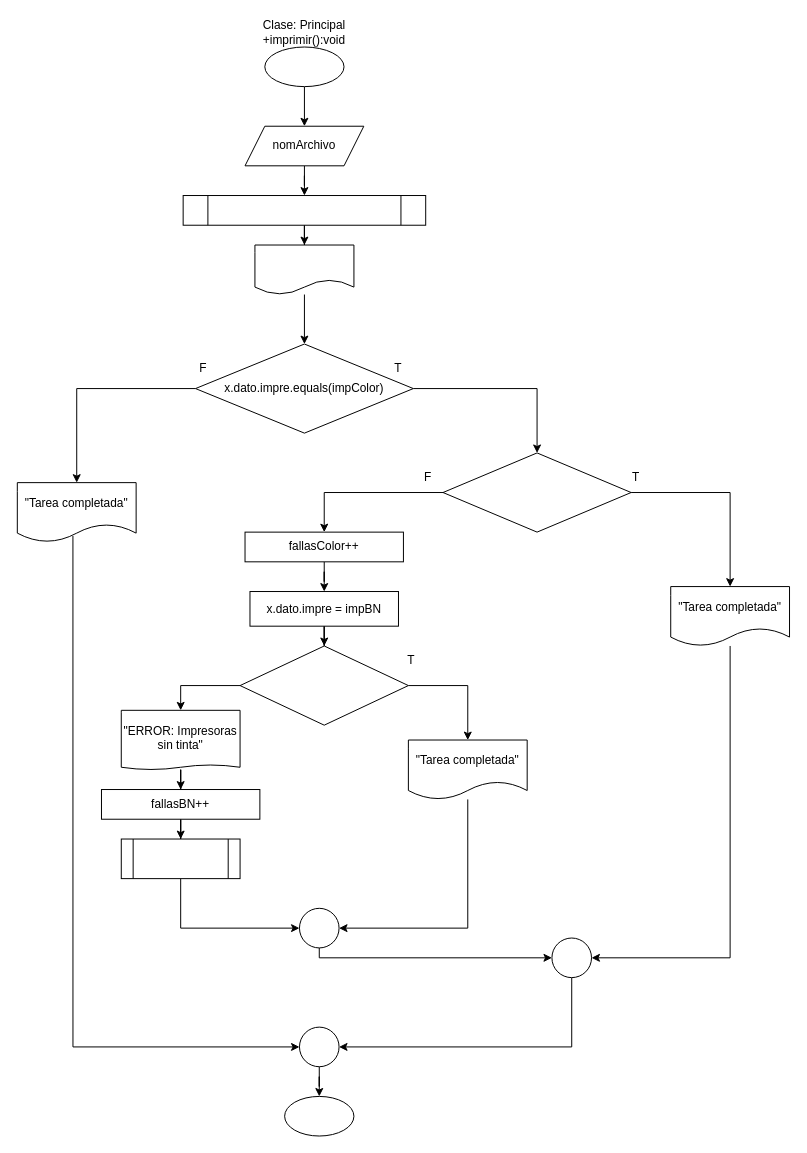
Some shapes in this 807 by 1153 pixel diagram are drawn without their labels. The shapes that lost their labels are listed below. From the top down, each one's box as (x1, y1, x2, y2) in pixels, then its label:
(182, 195, 426, 225): x = tareas.eliminar(nomArchivo)
(254, 244, 354, 295): x.dato
(442, 452, 631, 532): x.dato.impre.conTinta
(239, 645, 408, 725): impBN.conTinta
(120, 838, 240, 879): tareas.insertar(x)
